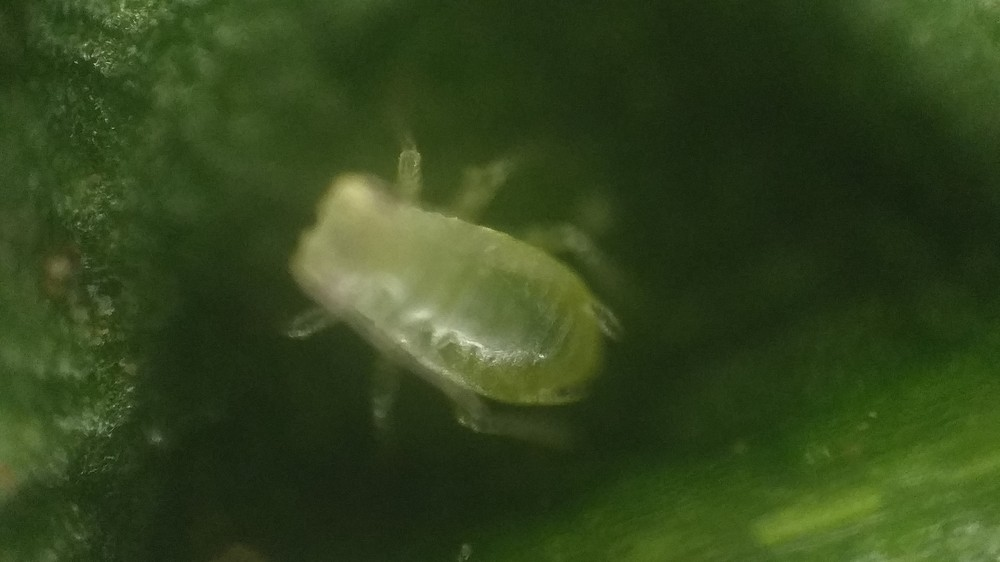Pulgon: (268, 114, 668, 476)
